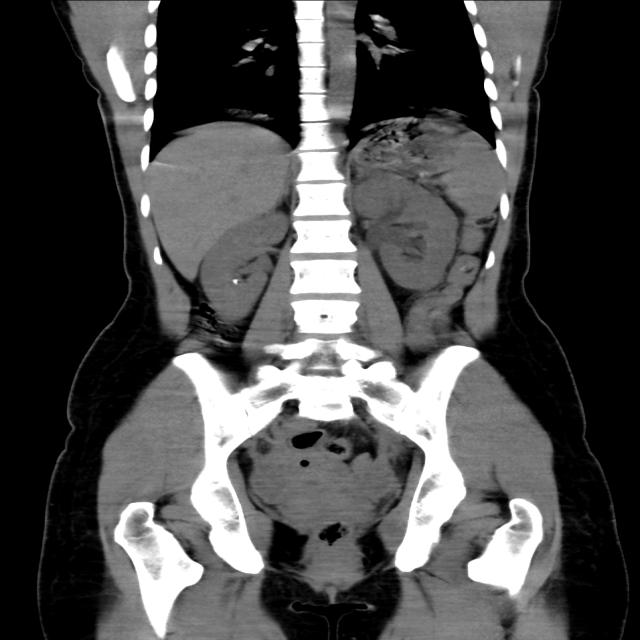kidneystone: (231, 279, 239, 284)
